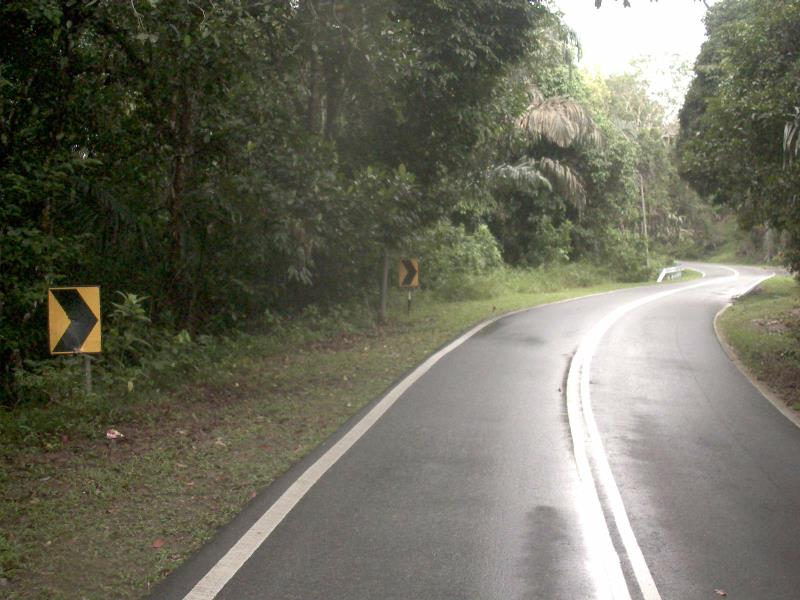traffic_sign: (40, 275, 112, 367)
